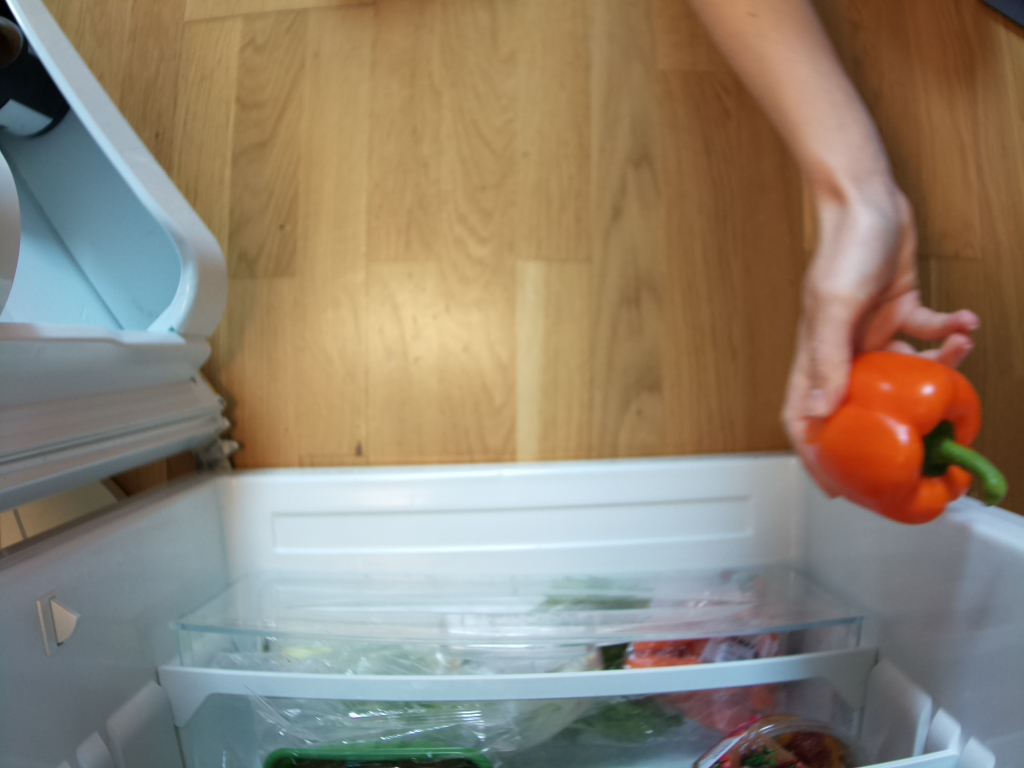pepper: (805, 352, 1006, 524)
